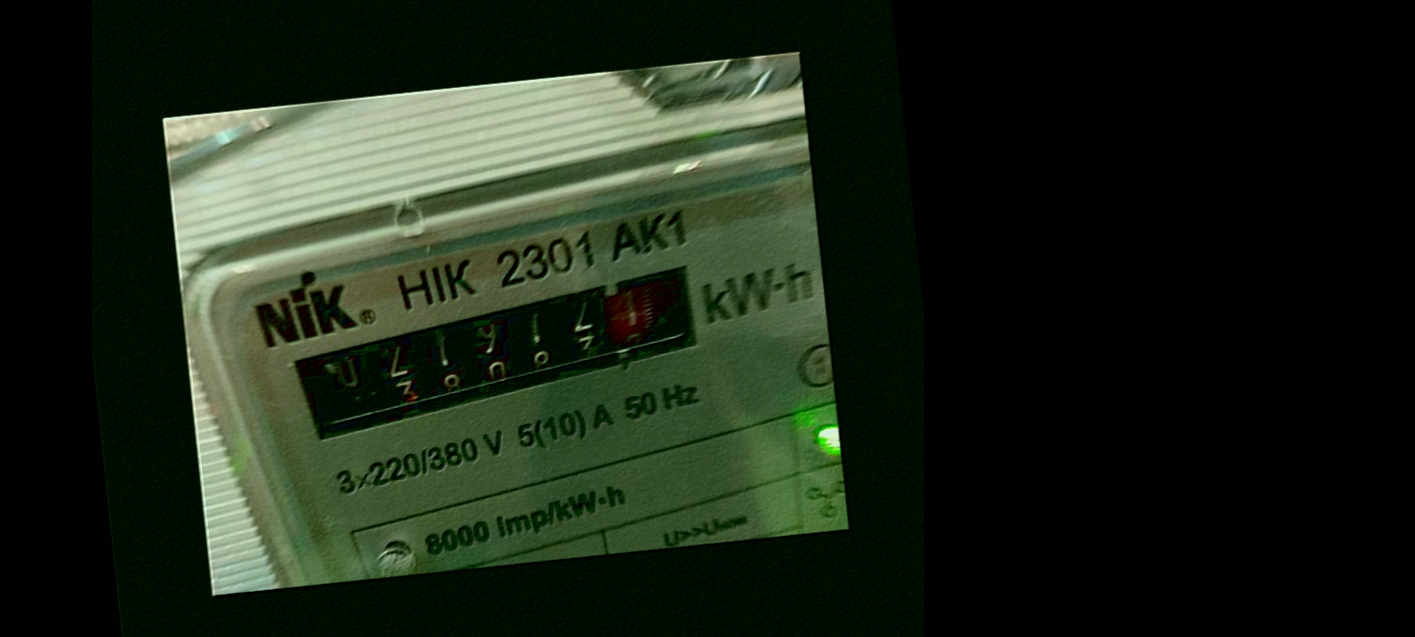0: (333, 354, 365, 392)
1: (621, 287, 647, 332)
2: (381, 339, 414, 381), (568, 296, 599, 336)
7: (521, 306, 551, 349), (431, 332, 457, 371)
9: (477, 320, 506, 357)
screen: (273, 254, 739, 455)
